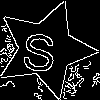S: (21, 24, 58, 72)
